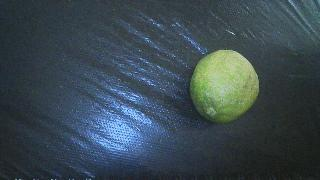DESECHO: (190, 50, 259, 123)
